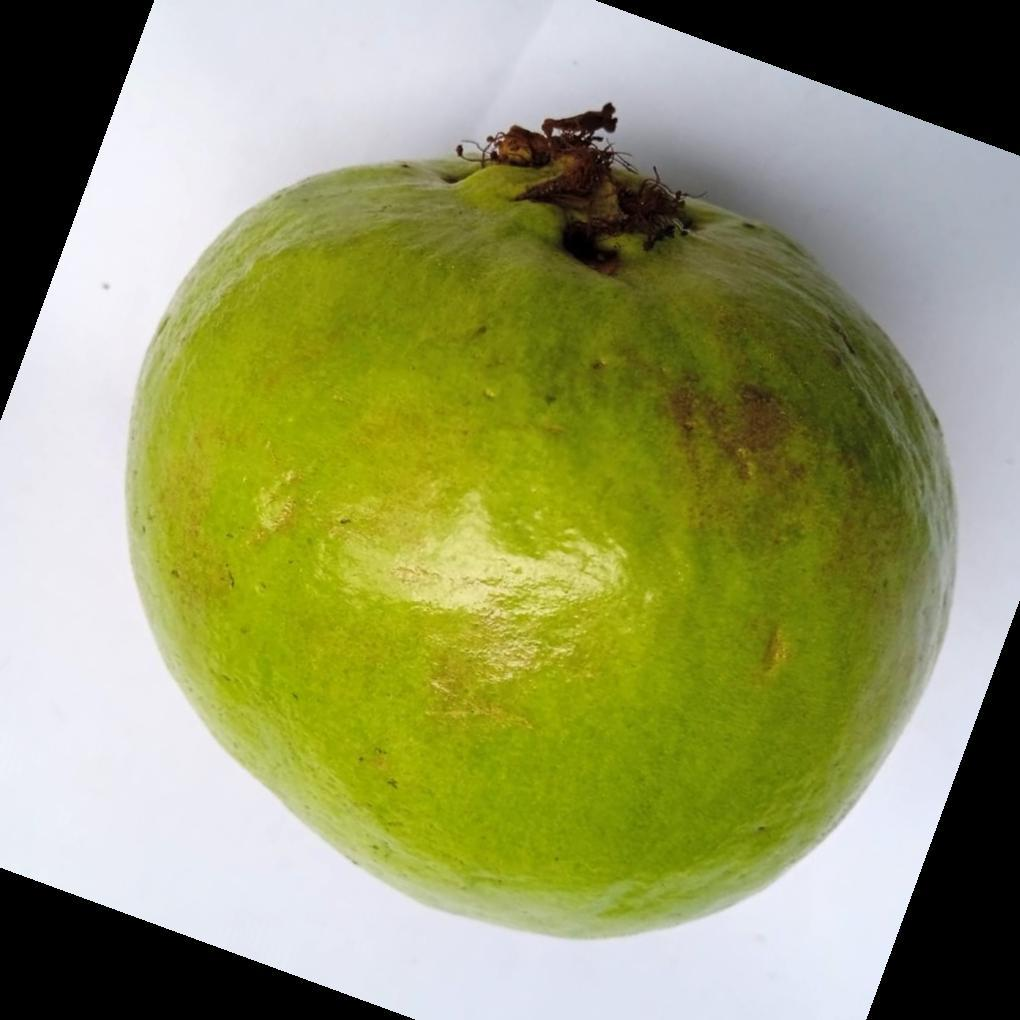FreshGuava: (122, 107, 959, 946)
